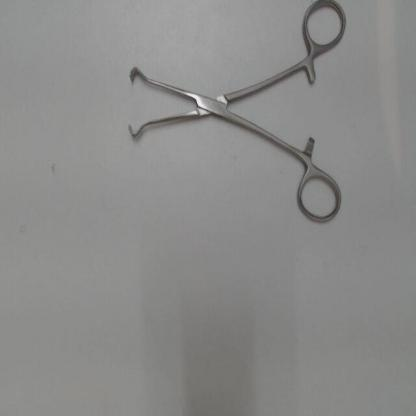Babcock Tissue Forceps: (124, 1, 348, 230)
